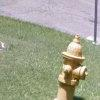Hydrant: (38, 23, 94, 100)
